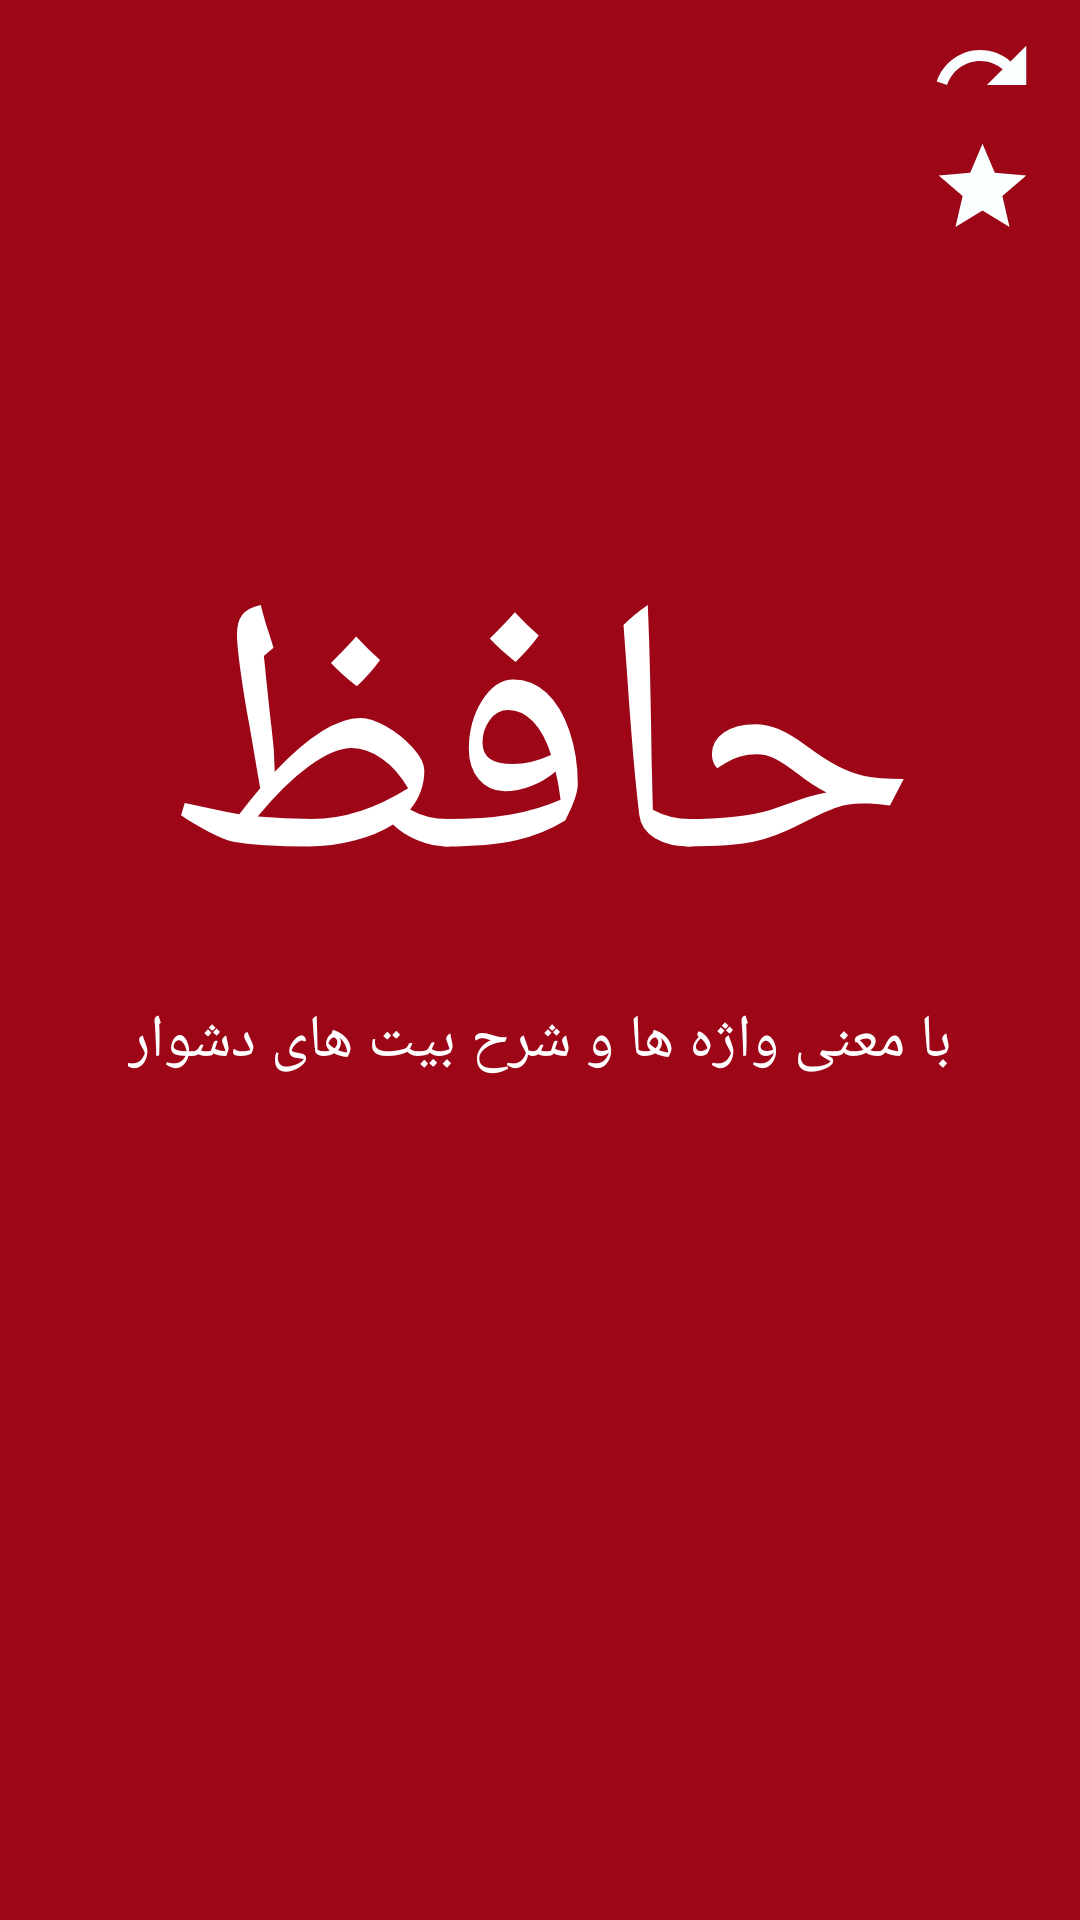

Icon bounding boxes for this 1080x1920 phone screenshot, format region(x1, y1, x2, y2):
redo: region(936, 46, 1027, 85)
star: region(939, 144, 1026, 227)
